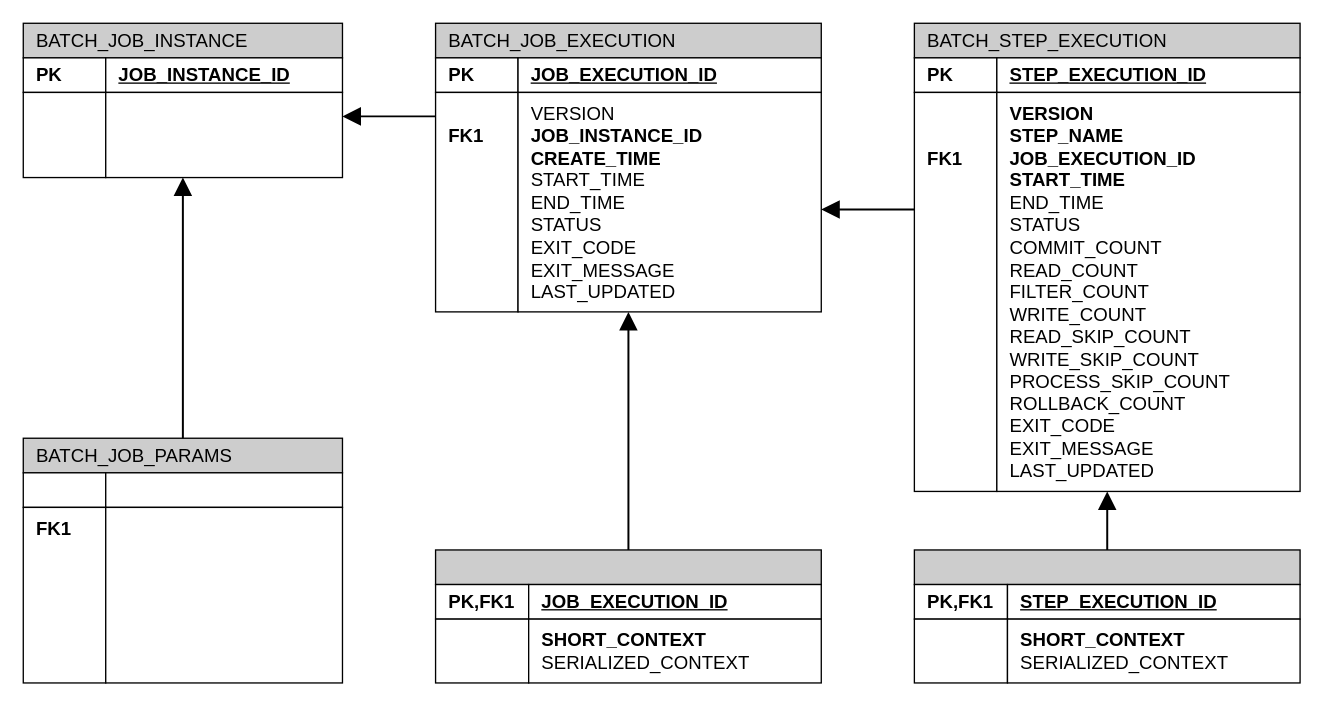
Some shapes in this 1323 by 706 pixel diagram are drawn without their labels. The centre of each missing label's shape, as x and y in pixels:
"BATCH_JOB_EXECUTION_CONTEXT" goes at point (627, 567).
"BATCH_STEP_EXECUTION_CONTEXT" goes at point (1106, 567).
"JOB_INSTANCE_ID TYPE_CD KEY_NAME STRING_VAL DATE_VAL LONG_VAL DOUBLE_VAL" goes at point (223, 594).
"VERSION JOB_NAME JOB_KEY" goes at point (223, 134).
